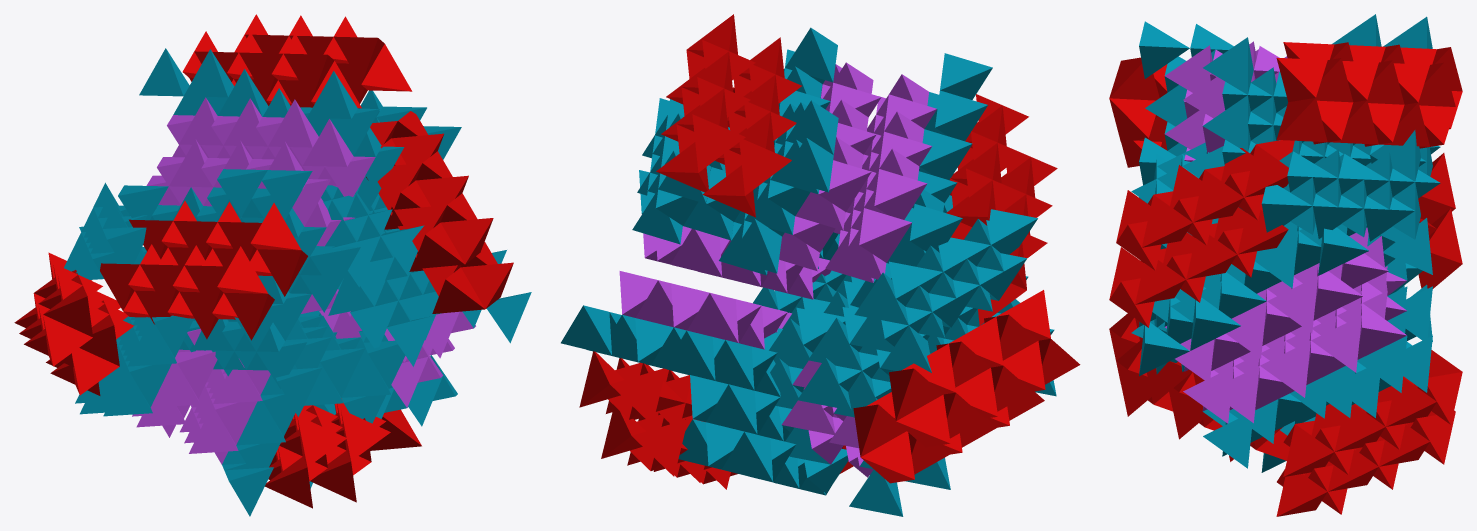
File: customMassing_InsulinHexamer_V2_240712.fbx
3 renders of one model, left to right at view 1: azimuth 30°, elevation 25°; view 2: azimuth 150°, elevation 25°; view 3: azimuth 270°, elevation 25°, orthographic. The views are drawn at different scales.
Parts seen in each view (by area): view 1: MonomerV2_05, MonomerV2_06, MonomerV2_01, MonomerV2_03, MonomerV2_04, MonomerV2_02; view 2: MonomerV2_04, MonomerV2_06, MonomerV2_02, MonomerV2_05, MonomerV2_03, MonomerV2_01; view 3: MonomerV2_06, MonomerV2_01, MonomerV2_02, MonomerV2_05, MonomerV2_04, MonomerV2_03.
Part boxes in pixels (x1,y1,x2,y2): MonomerV2_05: (100, 139, 360, 389); MonomerV2_06: (139, 14, 461, 209); MonomerV2_01: (321, 111, 531, 366); MonomerV2_03: (180, 315, 405, 516); MonomerV2_04: (14, 182, 217, 437); MonomerV2_02: (290, 289, 457, 488); MonomerV2_04: (797, 209, 1080, 516); MonomerV2_06: (632, 14, 881, 275); MonomerV2_02: (561, 271, 830, 495); MonomerV2_05: (825, 53, 1057, 325); MonomerV2_03: (753, 266, 869, 493); MonomerV2_01: (639, 87, 839, 299); MonomerV2_06: (1183, 14, 1462, 241); MonomerV2_01: (1109, 140, 1388, 383); MonomerV2_02: (1183, 266, 1462, 516); MonomerV2_05: (1109, 21, 1258, 249); MonomerV2_04: (1366, 145, 1462, 341); MonomerV2_03: (1109, 247, 1289, 461).
Bounding box in the file's own units: 4797 × 4828 × 3394.
